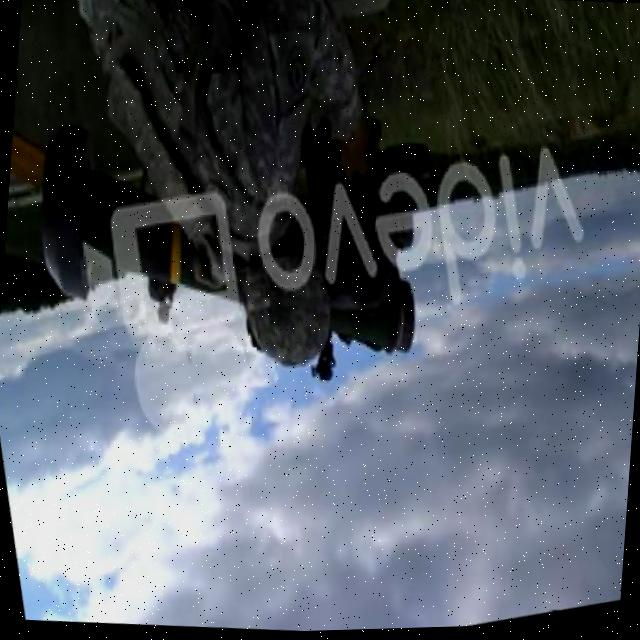rocket: (18, 76, 430, 436)
